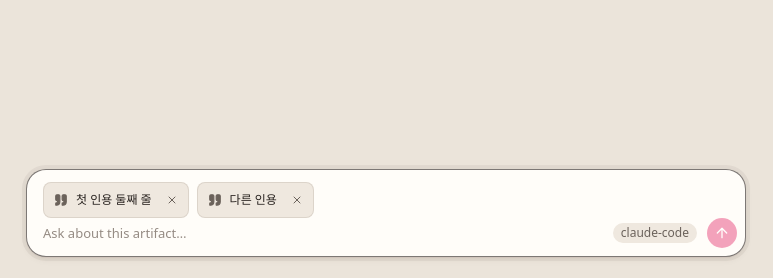
AskBar › shows quotes waiting above the input and on the asked question
The image size is (773, 278).
Expected: the number of list items is 2, [43,182,189,218]; [197,182,314,218]
Click the button named "Remove quote" next to "다른 인용": click(297, 200) [285,188,309,212]
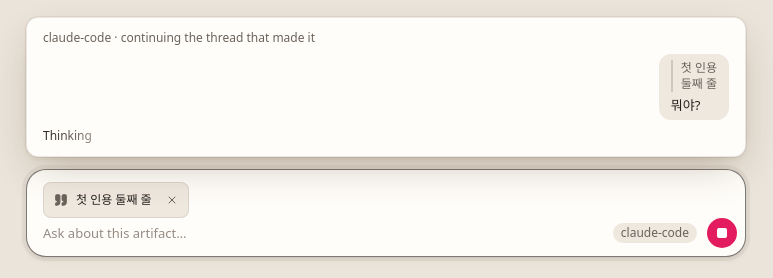
Expected: the number of list items is 1, [43,182,189,218]
Expected: the text "뭐야?" is shown, [671,96,700,114]
